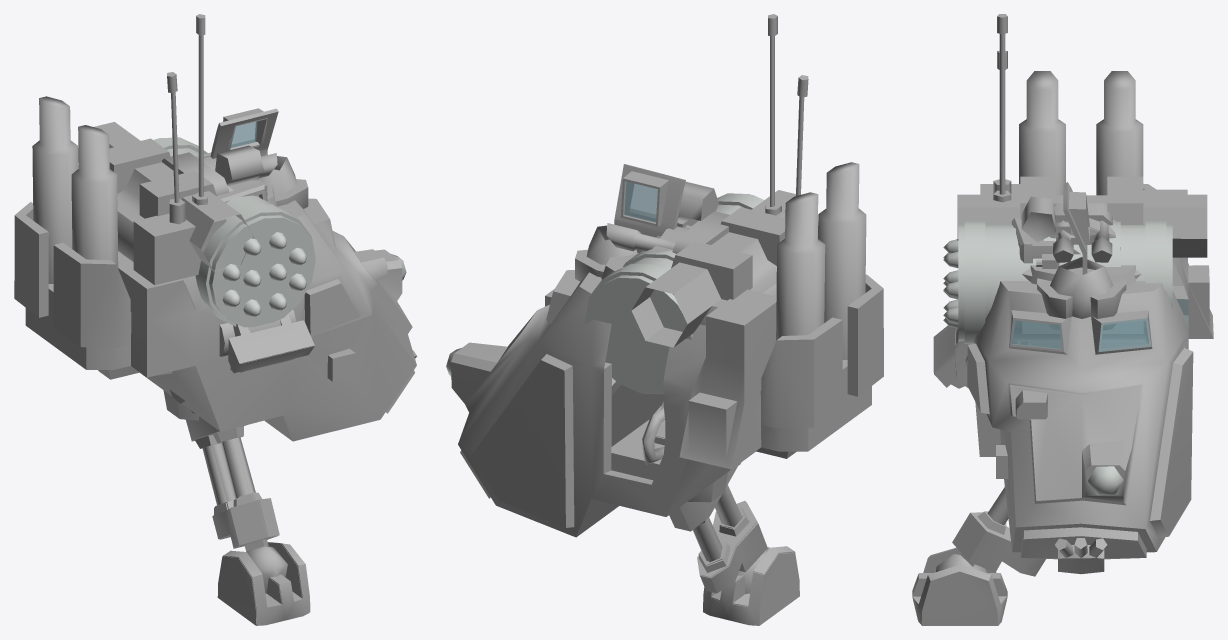
Rendered from sentinel_rocketpod-0lx0afx.glb.
3 views of the same model, side by side, from view 1: azimuth 30°, elevation 25°; view 2: azimuth 150°, elevation 25°; view 3: azimuth 270°, elevation 25° (orthographic). The views are drawn at different scales.
Visible parts, largest first — view 1: turret, turret_interior, gun, body, legr3, legl3, legl2, legl4, legr4, door, legr2, targetpod; view 2: turret, turret_interior, body, gun, legr3, legr4, door, legl3, legl4; view 3: turret, turret_interior, gun, body, legl4, legl3, door, targetpod, legr2, legl2, legr4.
Boxes of the visible parts, x1,y1,x2,y2 form: turret: (14,14,417,441); turret_interior: (14,97,415,440); gun: (153,137,315,327); body: (78,122,308,271); legr3: (191,425,278,593); legl3: (186,416,287,577); legl2: (170,310,313,413); legl4: (223,542,310,625); legr4: (217,543,309,625); door: (210,108,278,158); legr2: (181,310,314,413); targetpod: (217,180,267,202); turret: (446,14,883,537); turret_interior: (451,163,883,537); body: (575,190,818,347); gun: (584,193,764,394); legr3: (642,419,767,593); legr4: (703,552,799,625); door: (614,164,685,252); legl3: (642,408,768,577); legl4: (703,546,799,607); turret: (967,14,1213,574); turret_interior: (967,71,1213,558); gun: (943,220,1172,344); body: (957,176,1207,329); legl4: (912,547,1006,625); legl3: (936,487,1045,573); door: (1063,182,1089,274); targetpod: (1011,218,1080,268); legr2: (934,328,1029,388); legl2: (933,325,1031,373); legr4: (921,572,1007,625).
Size of the model in its own units: 46.98 by 70.9 by 33.56.
